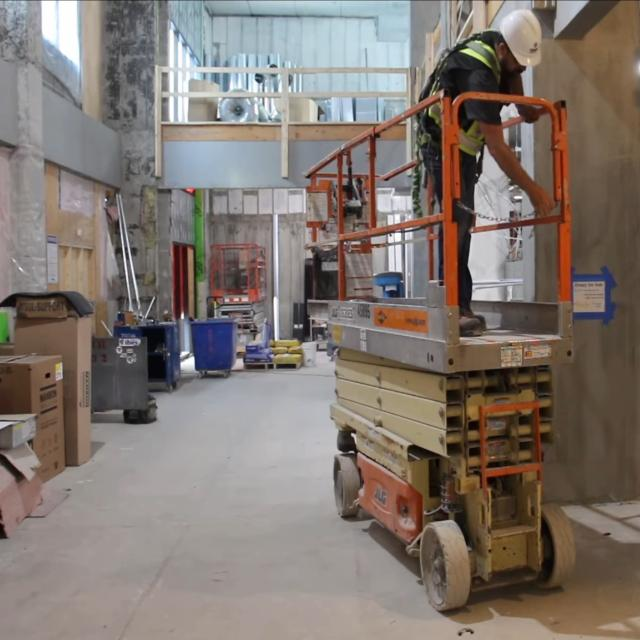2m above platform: (299, 90, 587, 621)
Belt: (427, 29, 502, 184)
worker: (411, 6, 534, 341)
